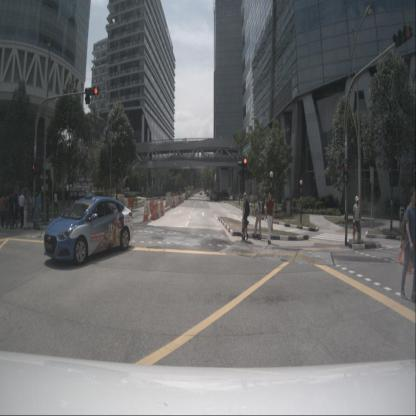human-pedestrian-adult: (401, 188, 415, 303), (252, 194, 264, 240), (265, 191, 274, 244), (241, 193, 250, 242), (21, 187, 30, 229), (7, 192, 16, 229), (18, 191, 26, 229), (4, 192, 10, 228), (0, 193, 6, 227), (13, 194, 19, 228), (36, 191, 41, 230), (54, 192, 59, 216), (32, 195, 36, 217), (46, 192, 49, 218)
movable_object-barrier: (150, 202, 160, 220), (160, 200, 165, 217), (119, 198, 128, 207), (158, 200, 162, 218), (128, 197, 134, 206)
movable_object-trafficcone: (405, 240, 414, 274), (397, 237, 404, 263), (142, 204, 147, 221), (146, 204, 150, 221), (270, 215, 274, 231), (165, 201, 168, 208)
vehicle-car: (44, 195, 134, 266)
vehicle-truck: (209, 189, 218, 202)
